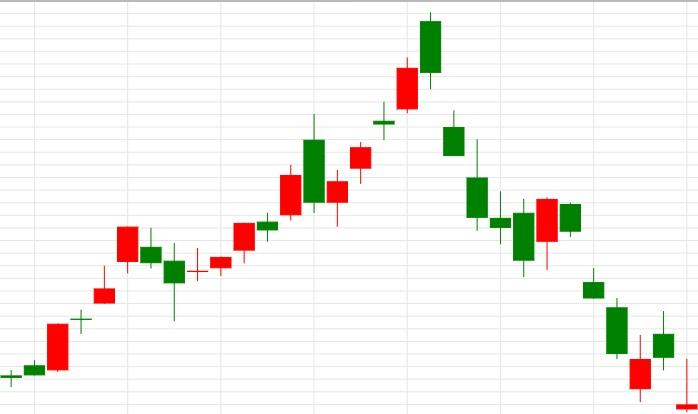three_black_crows_fall: (163, 13, 488, 321), (513, 197, 628, 359)
